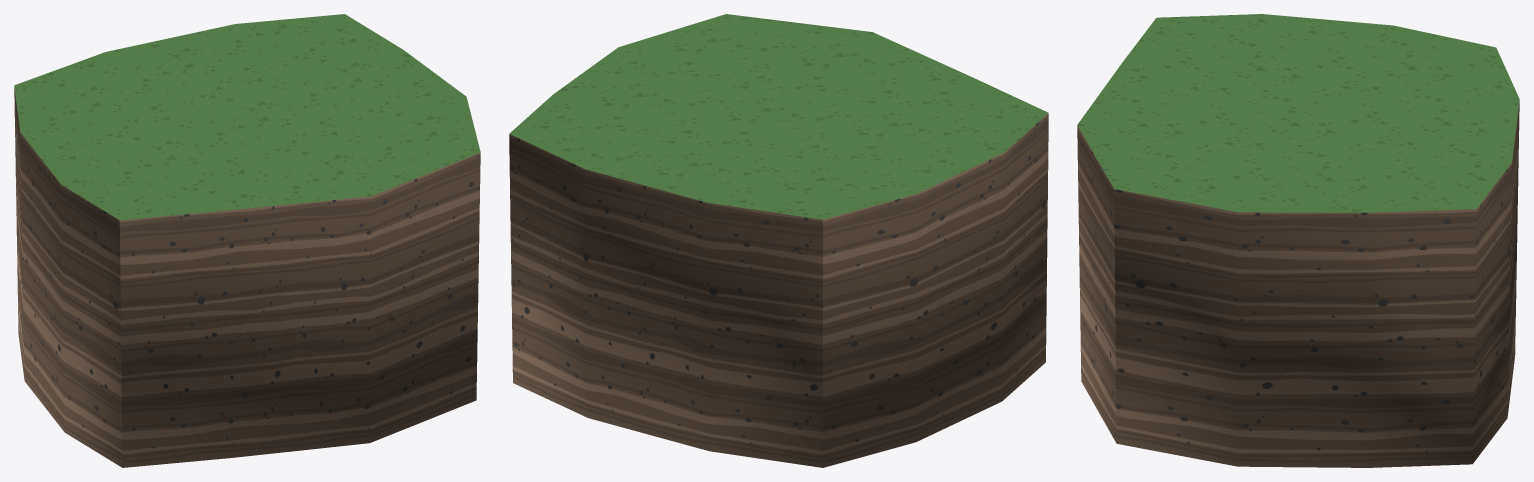
File: ground2.gltf
The picture shows the model from 3 angles, left to right: view 1: azimuth 30°, elevation 25°; view 2: azimuth 150°, elevation 25°; view 3: azimuth 270°, elevation 25°; orthographic projection. The views are drawn at different scales.
Parts seen in each view (by area): view 1: ground2; view 2: ground2; view 3: ground2.
Part boxes in pixels (x1,y1,x2,y2): ground2: (14,14,480,467); ground2: (509,14,1048,467); ground2: (1077,14,1519,467).
Size of the model in its own units: 20.69 by 12.44 by 19.46.
2 materials, 2 textured.
